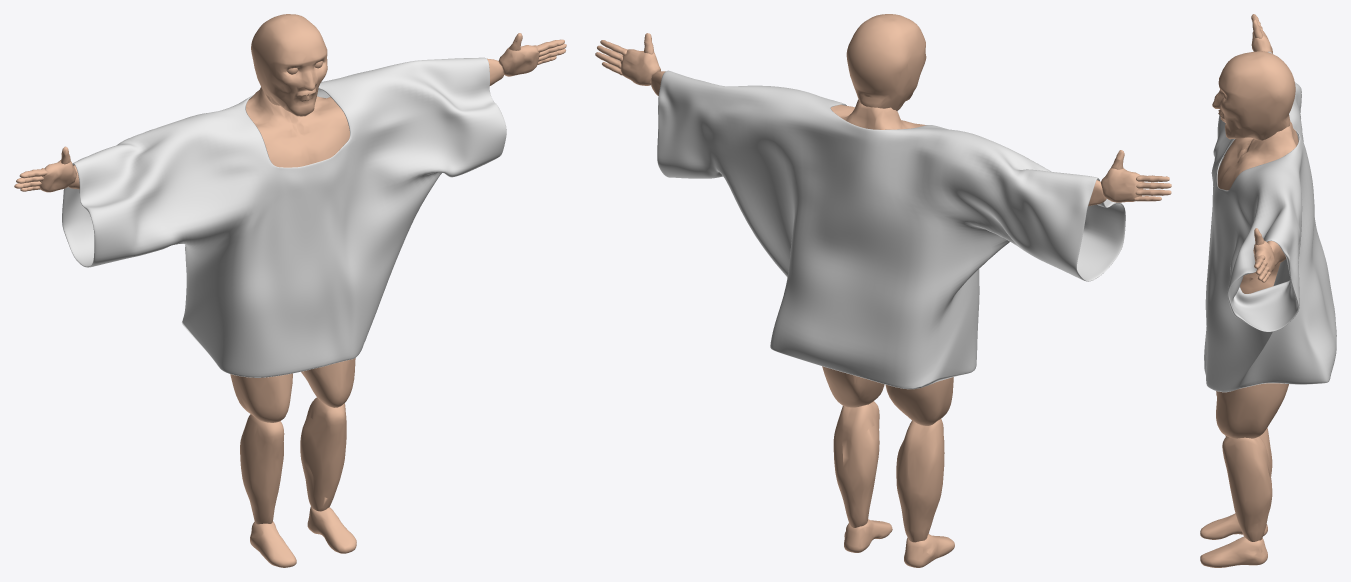
The model's file is ManWithCloth.fbx.
3 renders of one model, left to right at view 1: azimuth 30°, elevation 25°; view 2: azimuth 150°, elevation 25°; view 3: azimuth 270°, elevation 25°, orthographic. The views are drawn at different scales.
Visible parts, largest first — view 1: Cube.011, Cube.017; view 2: Cube.011, Cube.017; view 3: Cube.011, Cube.017.
Boxes of the visible parts, <box> form: Cube.011: <box>62,57,506,377</box>; Cube.017: <box>14,14,566,567</box>; Cube.011: <box>657,70,1125,389</box>; Cube.017: <box>595,14,1171,567</box>; Cube.011: <box>1204,51,1336,392</box>; Cube.017: <box>1200,14,1298,567</box>.
Size of the model in its own units: 1530 by 1382 by 345.
